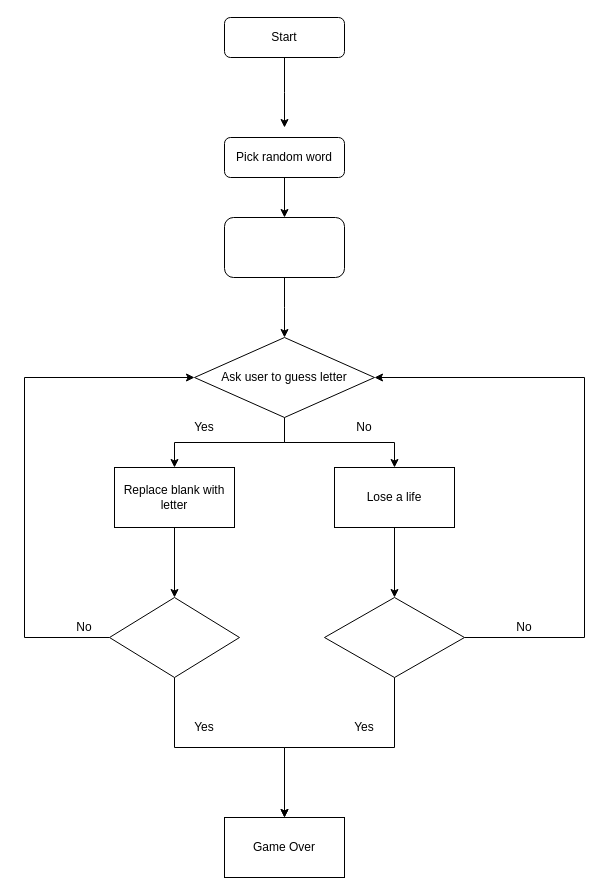
Image size: 610x895. Some labels were removed from this diagram. Each missing label, with the centre of its shape:
"Are all the blanks filled?" goes at point 174,637.
"Have user ran out of lives?" goes at point 394,637.
"Split generated word into letters" goes at point 284,247.
